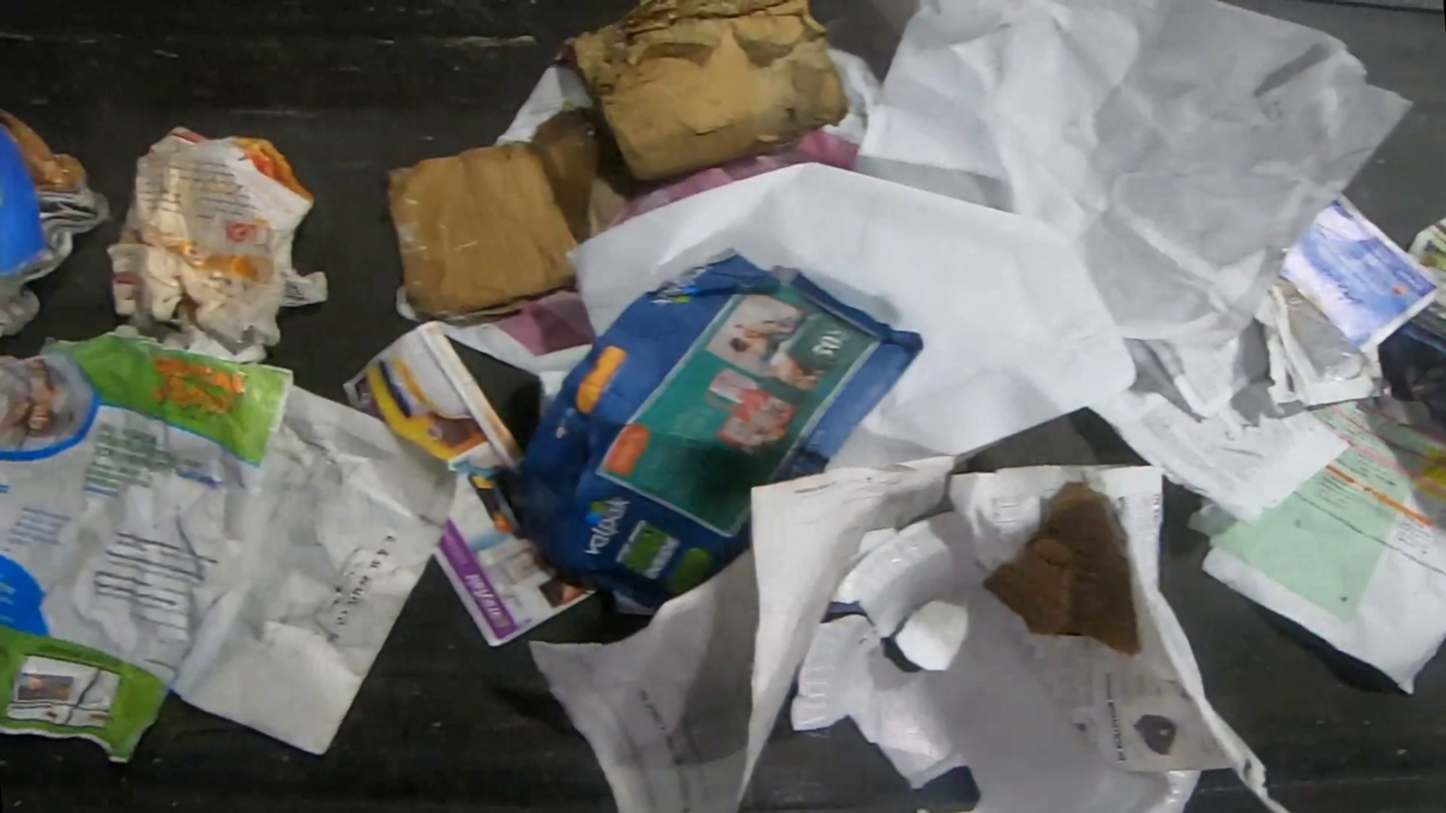cardboard: (545, 0, 847, 182), (103, 125, 330, 365), (383, 106, 636, 321)
plastic: (786, 508, 1202, 813), (0, 106, 91, 193)
